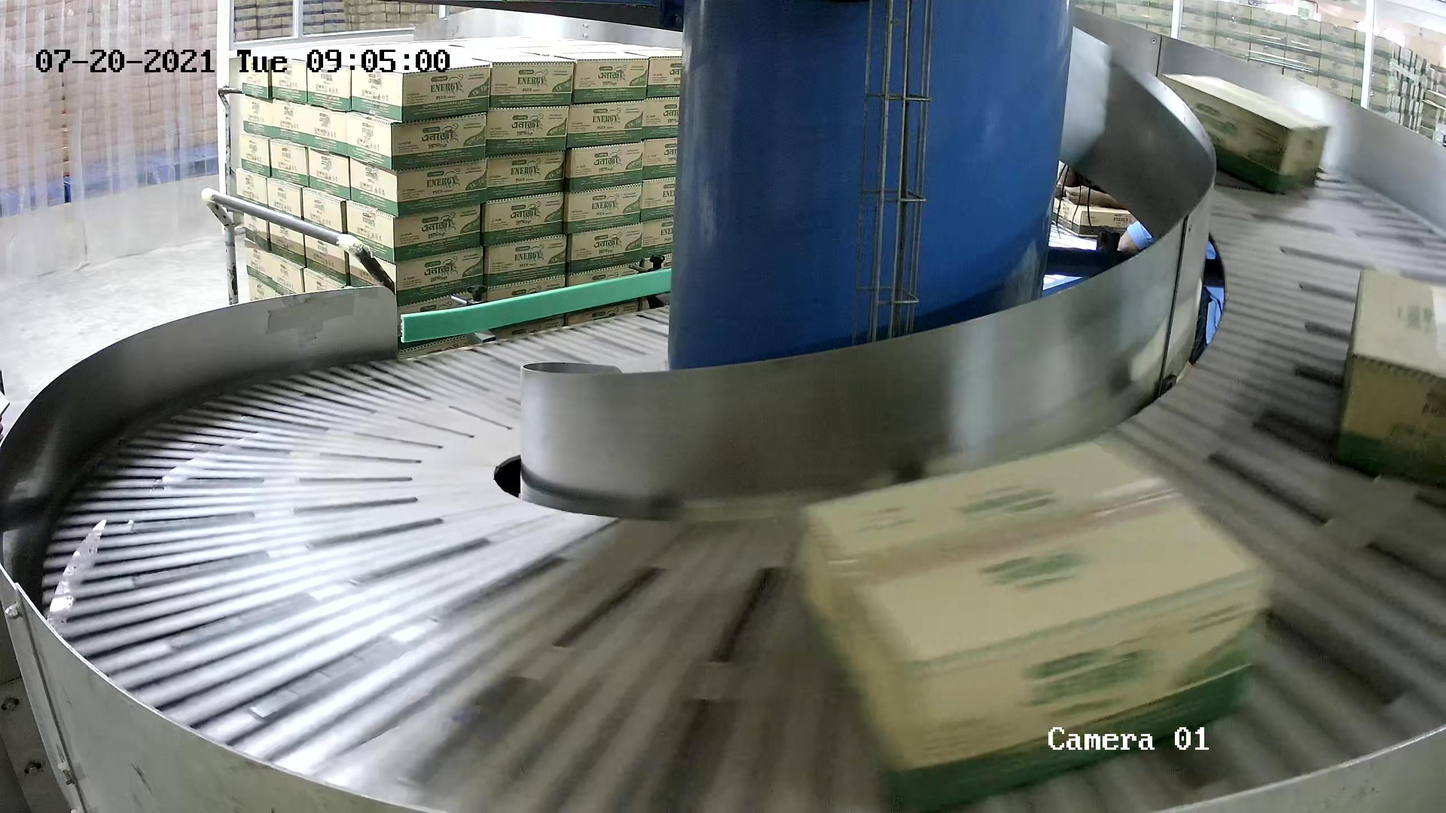Box: (795, 437, 1281, 813), (1330, 264, 1446, 490), (1147, 73, 1333, 194)
